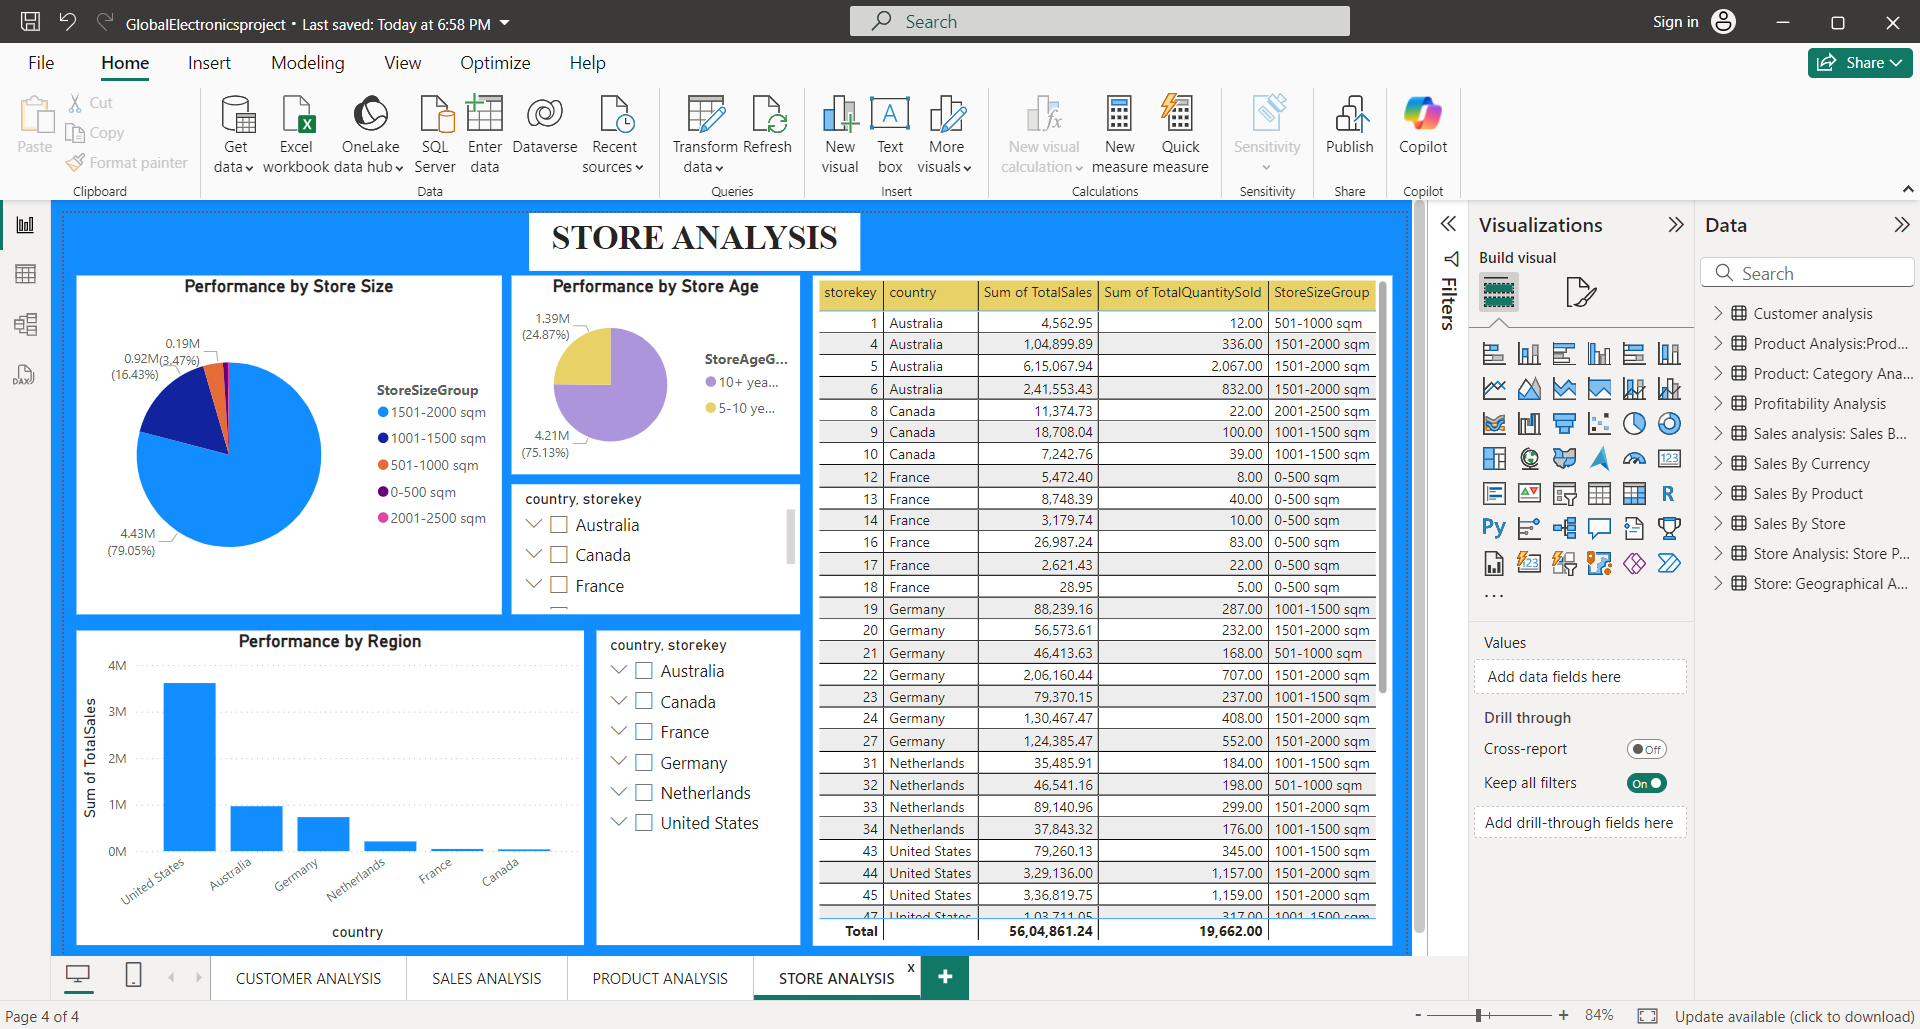

This screenshot's page, from the dashboard's own definition file:
{"tool":"powerbi","page":{"name":"STORE ANALYSIS","canvas":[1280,720],"ordinal":3},"visuals":[{"type":"pieChart","title":"Performance by Store Size","fields":{"Category":["Store: Geographical Analysis.StoreSizeGroup"],"Y":["Sum(Store: Geographical Analysis.TotalSales)"]},"box":[11.9,59.6,405.3,323],"z":0},{"type":"pieChart","title":"Performance by Store Age","fields":{"Category":["Store Analysis: Store Performance.StoreAgeGroup"],"Y":["Sum(Store Analysis: Store Performance.TotalSales)"]},"box":[426.7,59.6,275.4,189.5],"z":1000},{"type":"clusteredColumnChart","title":"Performance by Region","fields":{"Category":["Store: Geographical Analysis.country"],"Y":["Sum(Store: Geographical Analysis.TotalSales)"]},"box":[11.9,398.1,484,300.4],"z":2000},{"type":"tableEx","fields":{"Values":["Store: Geographical Analysis.storekey","Store: Geographical Analysis.country","Sum(Store: Geographical Analysis.TotalSales)","Sum(Store: Geographical Analysis.TotalQuantitySold)","Store: Geographical Analysis.StoreSizeGroup"]},"box":[714,59.6,553.1,638.9],"z":3000},{"type":"slicer","fields":{"Values":["Store: Geographical Analysis.country","Store: Geographical Analysis.storekey"]},"box":[507.8,398.1,194.3,300.4],"z":4000},{"type":"slicer","fields":{"Values":["Store Analysis: Store Performance.country","Store Analysis: Store Performance.storekey"]},"box":[426.7,258.7,275.4,124],"z":5000},{"type":"textbox","box":[443.4,0,315.9,54.8],"z":6000}]}

Visuals, with their boxes on the page's 1280x720 design canvas (x1, y1, x2, y2). These are canvas units, not pixel positions in the 1920x1029 screenshot, which may show the page scaled, cropped or inside an application window:
"Performance by Store Size" pieChart: {"x1": 12, "y1": 60, "x2": 417, "y2": 383}
"Performance by Store Age" pieChart: {"x1": 427, "y1": 60, "x2": 702, "y2": 249}
"Performance by Region" clusteredColumnChart: {"x1": 12, "y1": 398, "x2": 496, "y2": 698}
tableEx - Store: Geographical Analysis.storekey x Store: Geographical Analysis.country: {"x1": 714, "y1": 60, "x2": 1267, "y2": 698}
slicer - Store: Geographical Analysis.country x Store: Geographical Analysis.storekey: {"x1": 508, "y1": 398, "x2": 702, "y2": 698}
slicer - Store Analysis: Store Performance.country x Store Analysis: Store Performance.storekey: {"x1": 427, "y1": 259, "x2": 702, "y2": 383}
textbox: {"x1": 443, "y1": 0, "x2": 759, "y2": 55}
